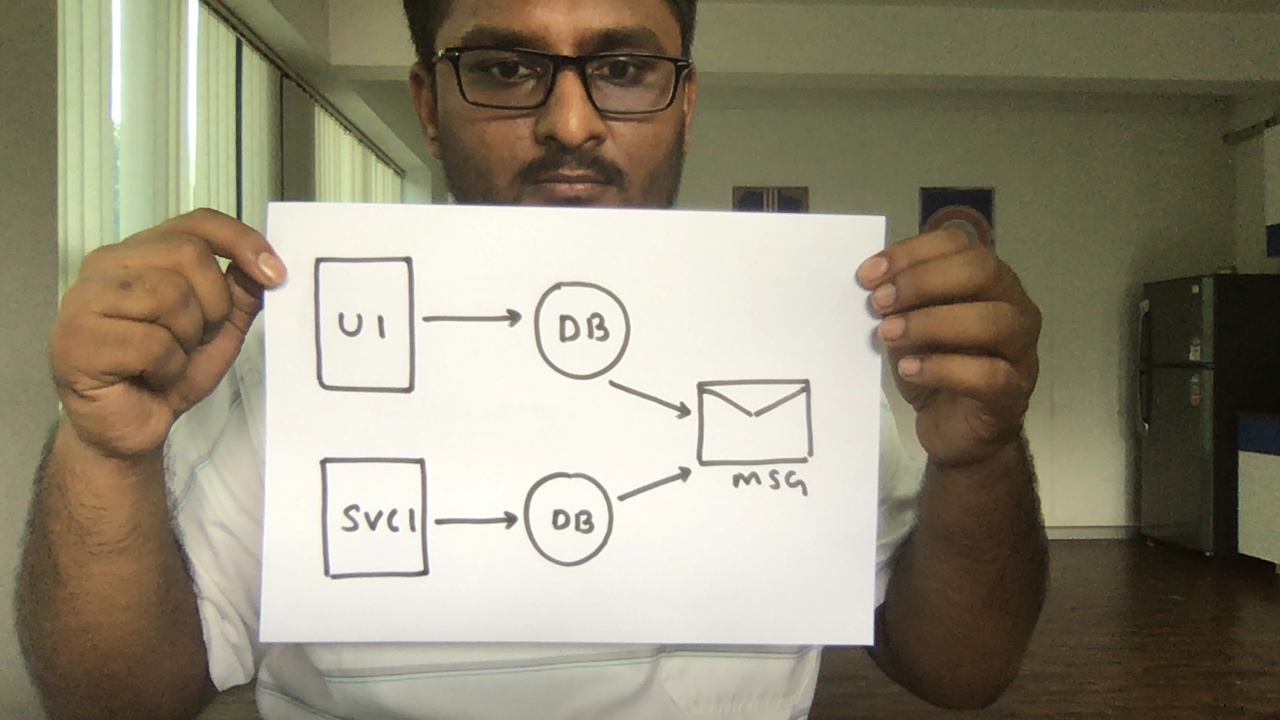arrow: (604, 373, 696, 427), (419, 299, 529, 341), (613, 461, 698, 513), (431, 500, 523, 544)
db: (531, 277, 635, 386), (516, 466, 617, 571)
ec2: (315, 451, 438, 586)
sns: (687, 369, 831, 493)
ui: (307, 251, 425, 400)
